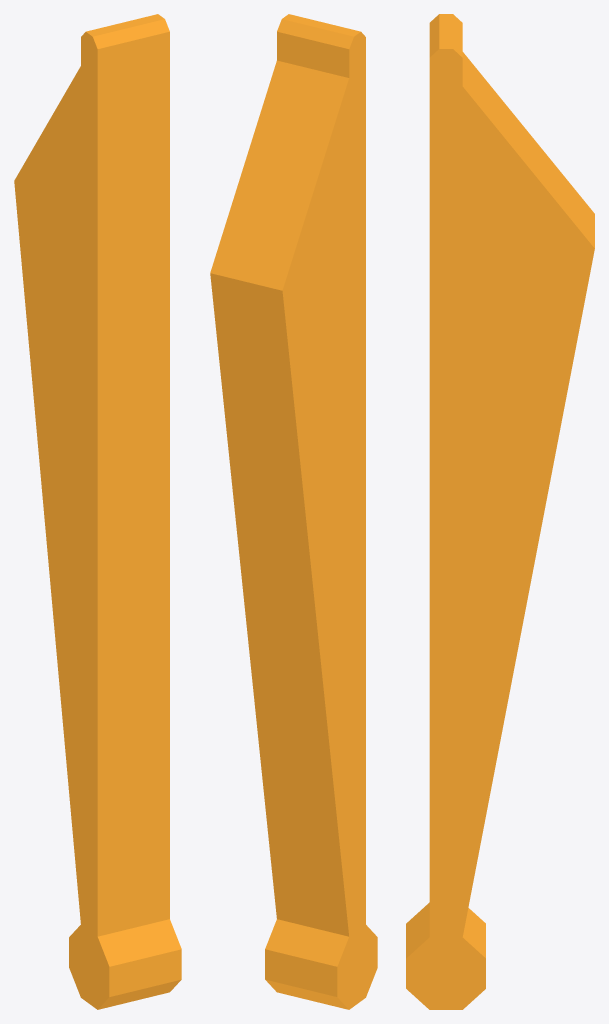
Rendered from excavator-arm-top.glb.
3 views of the same model, side by side, from view 1: azimuth 30°, elevation 25°; view 2: azimuth 150°, elevation 25°; view 3: azimuth 270°, elevation 25° (orthographic).
Visible parts, largest first — view 1: excavator-arm-top; view 2: excavator-arm-top; view 3: excavator-arm-top.
Boxes of the visible parts, box(x1,y1,x2,y2) form: excavator-arm-top: box(14, 14, 181, 1009); excavator-arm-top: box(210, 14, 377, 1009); excavator-arm-top: box(406, 14, 594, 1009).
Bounding box in the file's own units: 0.3 × 3.84 × 0.6847.
1 material, 1 textured.
